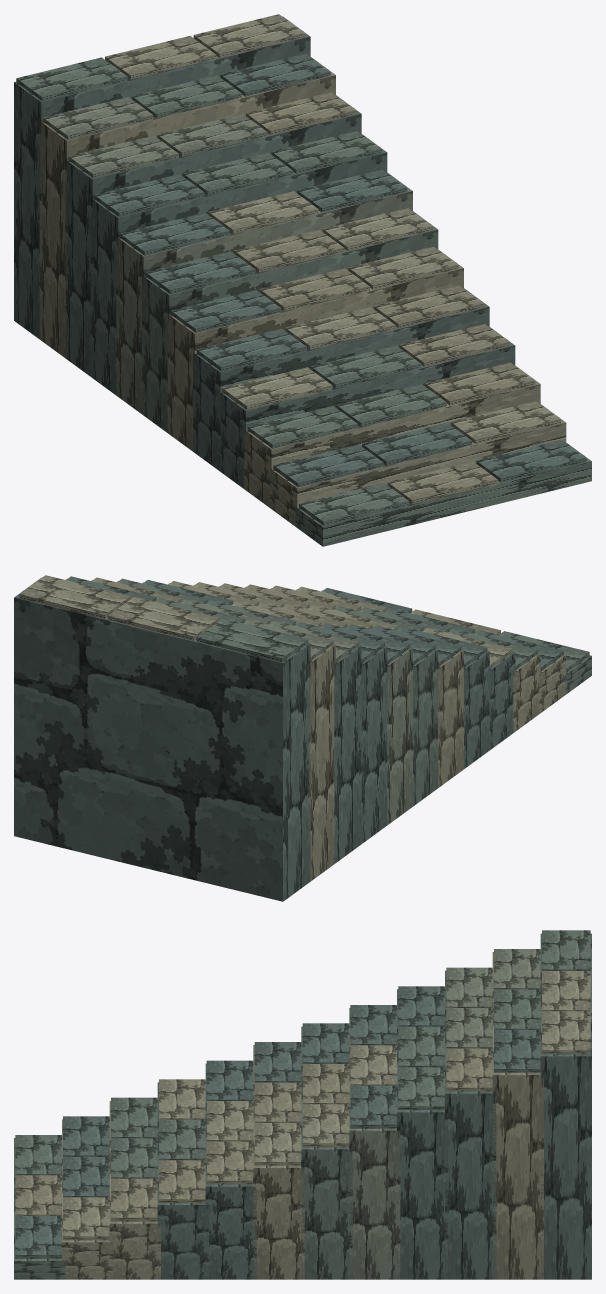
File: street_steps.glb
3 renders of one model, top to bottom at view 1: azimuth 30°, elevation 25°; view 2: azimuth 150°, elevation 25°; view 3: azimuth 270°, elevation 25°, orthographic. The views are drawn at different scales.
Visible parts, largest first — view 1: street_steps; view 2: street_steps; view 3: street_steps.
Part boxes in pixels (<box>): street_steps: <box>14,14,591,546</box>; street_steps: <box>14,575,591,901</box>; street_steps: <box>14,930,591,1279</box>.
Bounding box in the file's own units: 1.7 × 1.46 × 3.38.
Materials: 1 (1 with a texture image).
